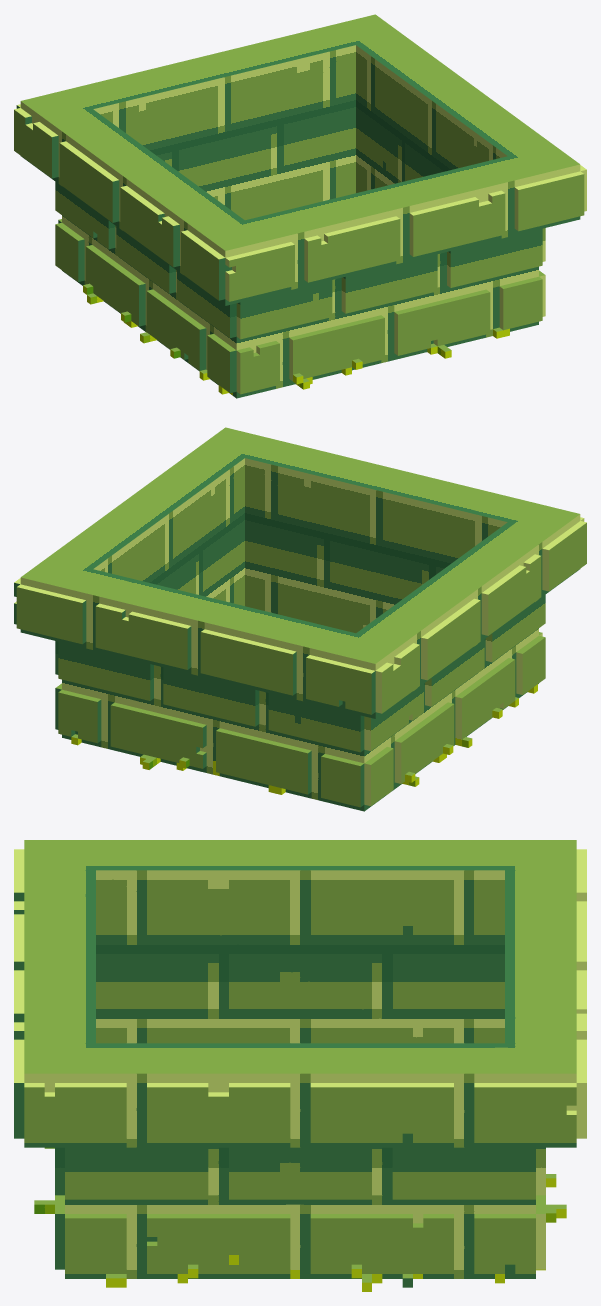
The model's file is wellao.fezao.glb.
The picture shows the model from 3 angles, top to bottom: view 1: azimuth 30°, elevation 25°; view 2: azimuth 150°, elevation 25°; view 3: azimuth 270°, elevation 25°; orthographic projection. The views are drawn at different scales.
Parts seen in each view (by area): view 1: WELLAO; view 2: WELLAO; view 3: WELLAO.
Part boxes in pixels (left/top/right/bottom): WELLAO: left=14, top=14, right=586, bottom=398; WELLAO: left=14, top=427, right=586, bottom=811; WELLAO: left=14, top=840, right=586, bottom=1291.
Size of the model in its own units: 3.5 by 1.5 by 3.5.
1 material, 1 textured.
